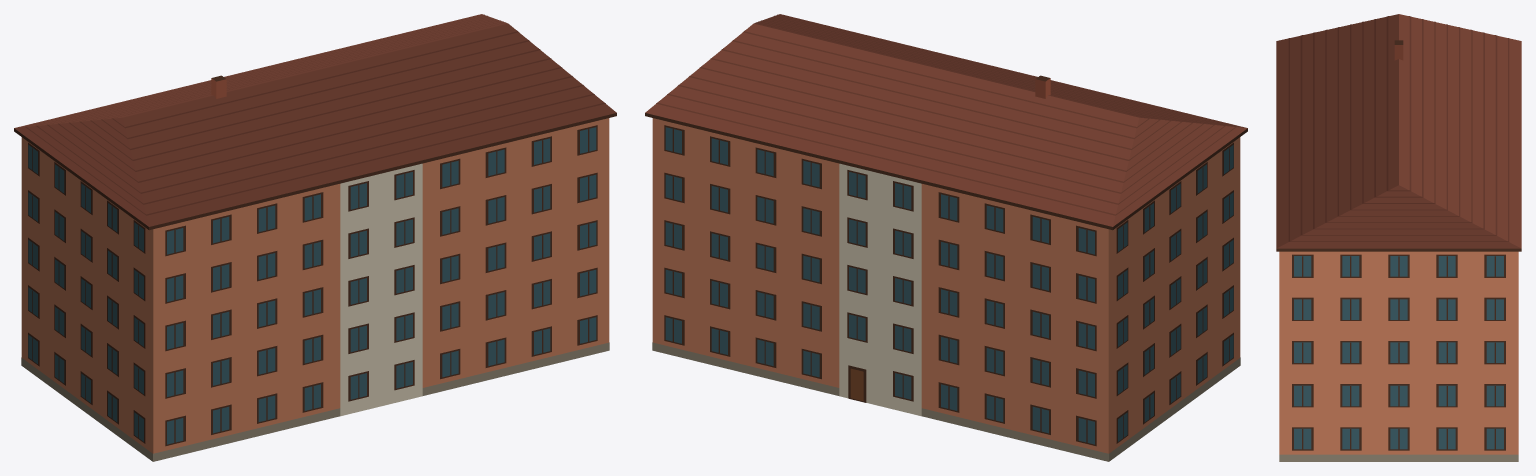
Rendered from brick-stairwell-block.glb.
3 renders of one model, left to right at view 1: azimuth 30°, elevation 25°; view 2: azimuth 150°, elevation 25°; view 3: azimuth 270°, elevation 25°, orthographic. The views are drawn at different scales.
Parts seen in each view (by area): view 1: Brick stairwell block; view 2: Brick stairwell block; view 3: Brick stairwell block.
Part boxes in pixels (left/top/right/bottom): Brick stairwell block: left=14, top=14, right=616, bottom=461; Brick stairwell block: left=645, top=14, right=1247, bottom=461; Brick stairwell block: left=1276, top=14, right=1521, bottom=461.
Bounding box in the file's own units: 32.98 × 20.41 × 16.49.
